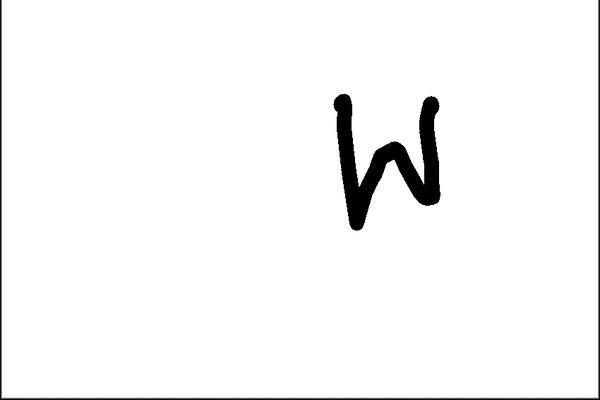w: (320, 78, 456, 244)
